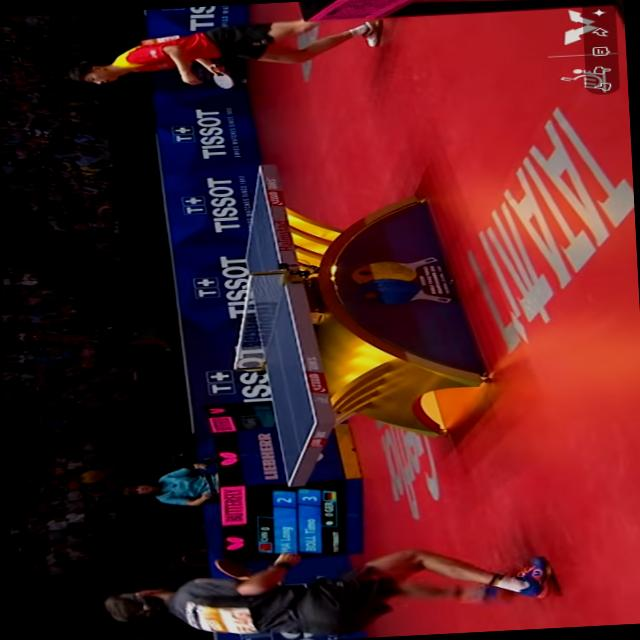TT Net: (231, 263, 290, 378)
TT Racket: (207, 539, 264, 595), (209, 67, 242, 95)
TT Table: (228, 165, 328, 485)
